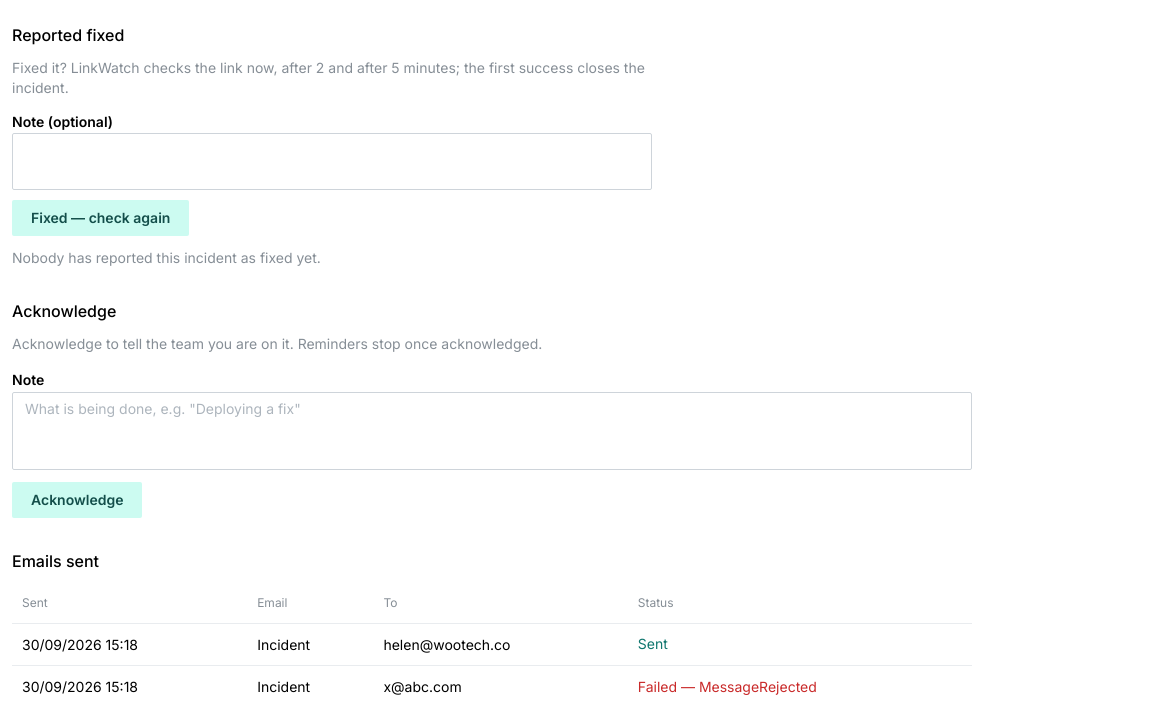
it: IncidentsPage — detail (FR-19, links in emails) › FR-19: incident closed meanwhile (409) → says so
(page scrolled)
Click the button "Acknowledge". click: (77, 500)
box: left=12, top=482, right=142, bottom=518
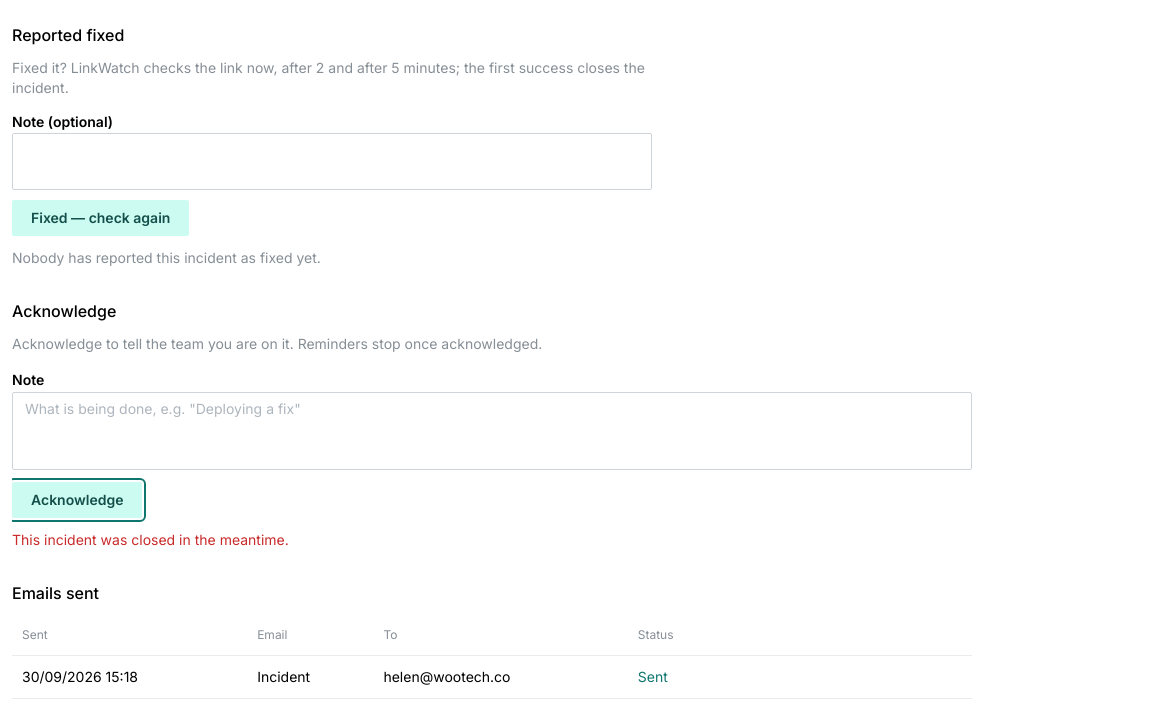
Check: the text "This incident was closed in the meantime." is shown, box left=12, top=531, right=289, bottom=548
